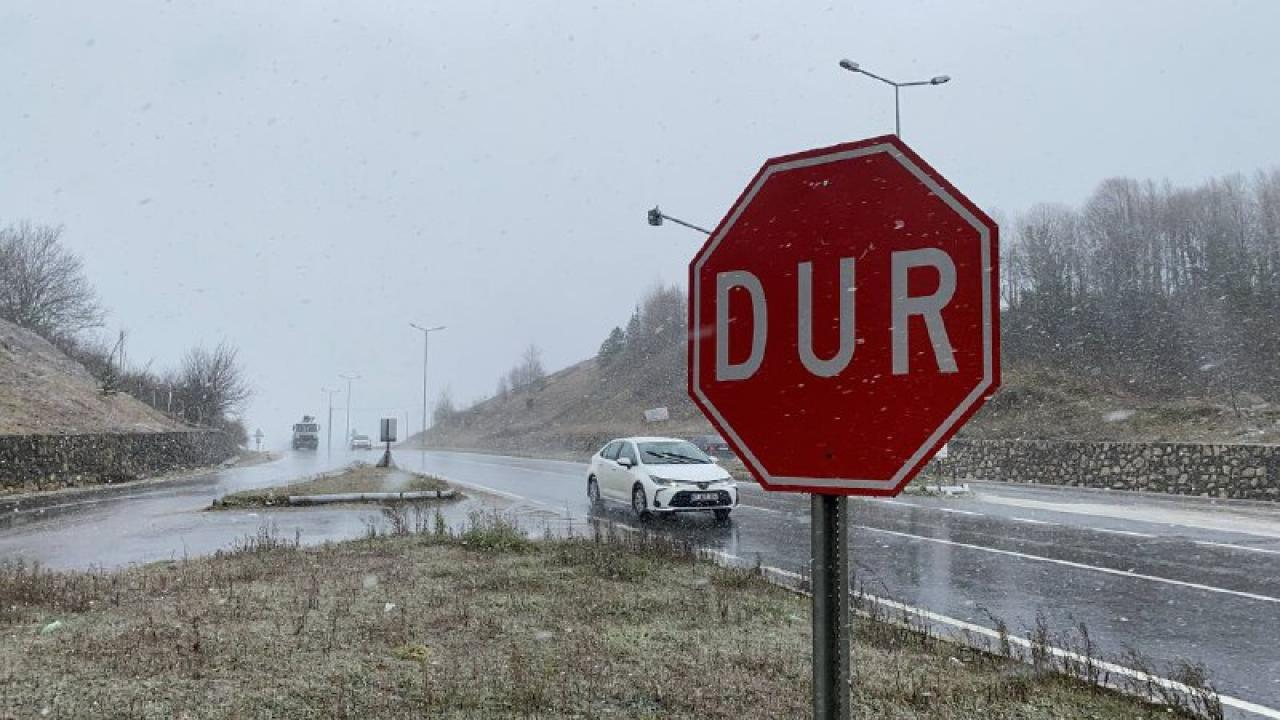dur: (686, 134, 999, 493)
otomobil: (569, 424, 736, 535)
